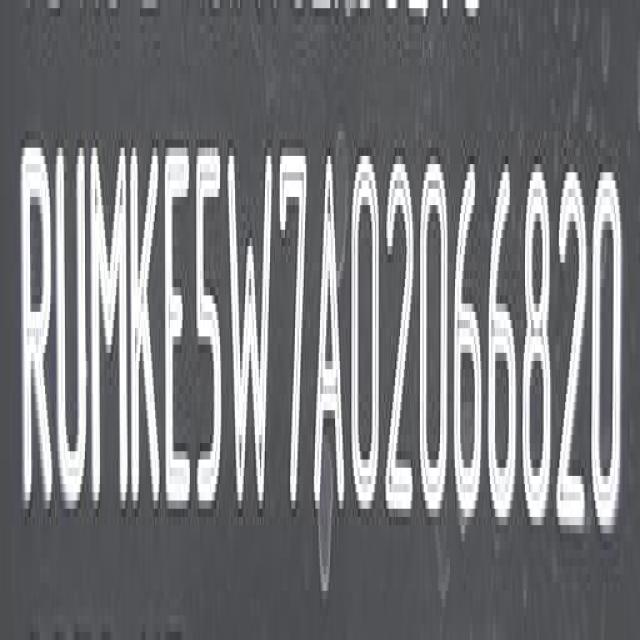0: (592, 155, 626, 544), (418, 146, 450, 538), (351, 152, 380, 504)
2: (556, 161, 588, 526), (384, 155, 415, 526)
5: (193, 140, 224, 535)
6: (488, 146, 517, 529), (453, 155, 482, 523)
7: (278, 149, 309, 532)
8: (521, 161, 554, 529)
A: (311, 152, 345, 514)
E: (162, 137, 193, 526)
K: (127, 131, 162, 535)
M: (90, 137, 129, 529)
R: (20, 128, 55, 538)
U: (54, 128, 89, 532)
W: (226, 134, 275, 526)
